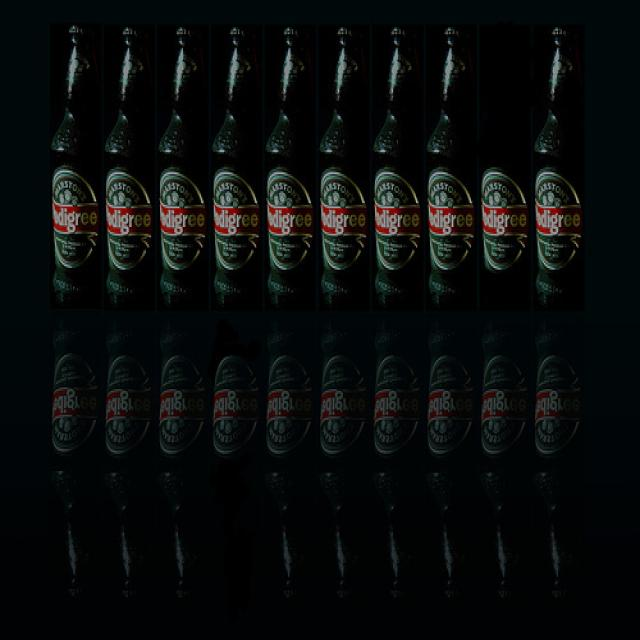Bottle: (28, 15, 110, 336), (525, 15, 605, 335), (466, 18, 551, 316), (429, 26, 476, 319), (264, 20, 310, 307), (217, 19, 259, 322), (324, 29, 367, 324), (173, 36, 218, 314), (383, 3, 414, 309), (119, 23, 150, 300)
